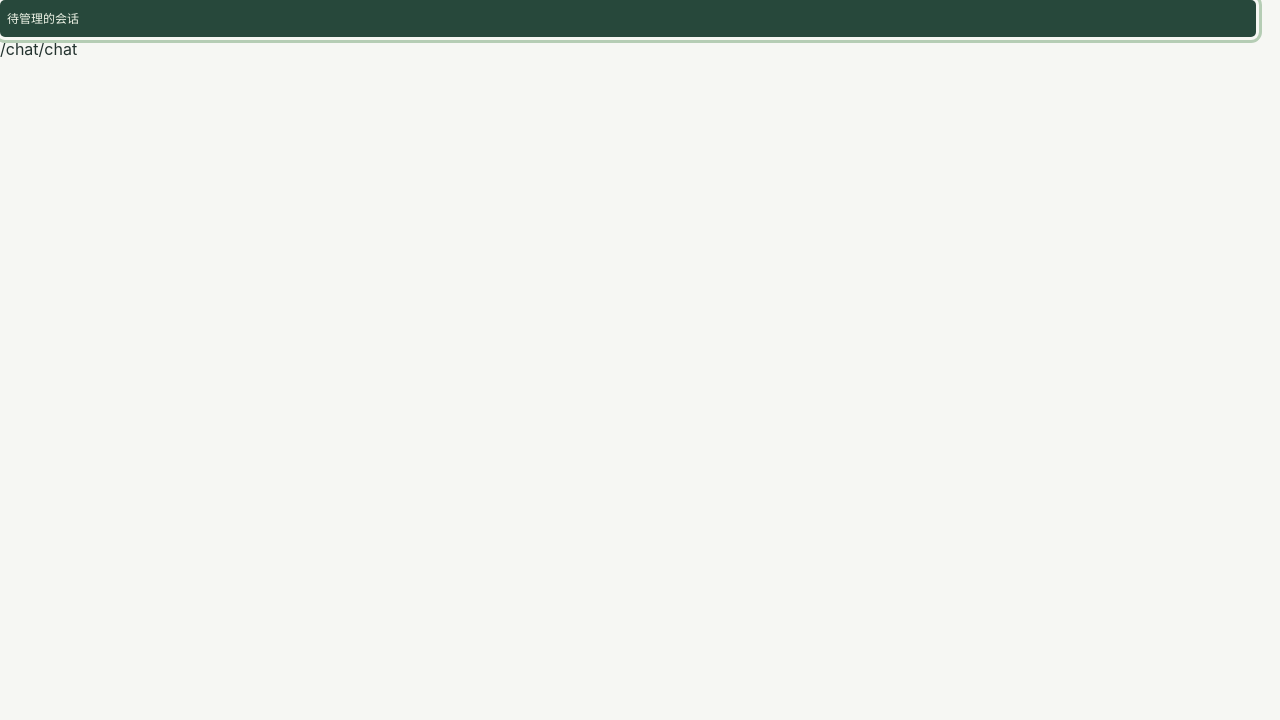
Scenario: opens deletion with the keyboard and cancels without deleting or leaving the conversation
This screenshot has width=1280, height=720.
Type keys "{Shift>}{F10}{/Shift}"
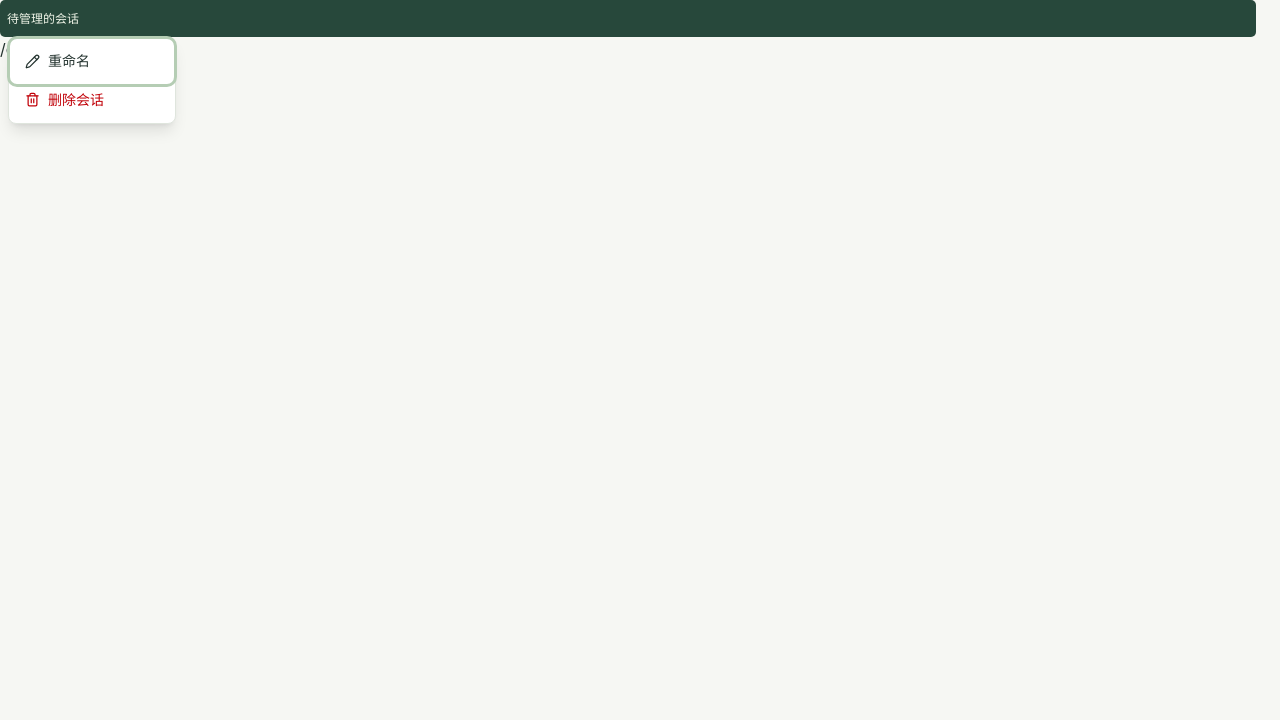
Press Arrowdown Enter
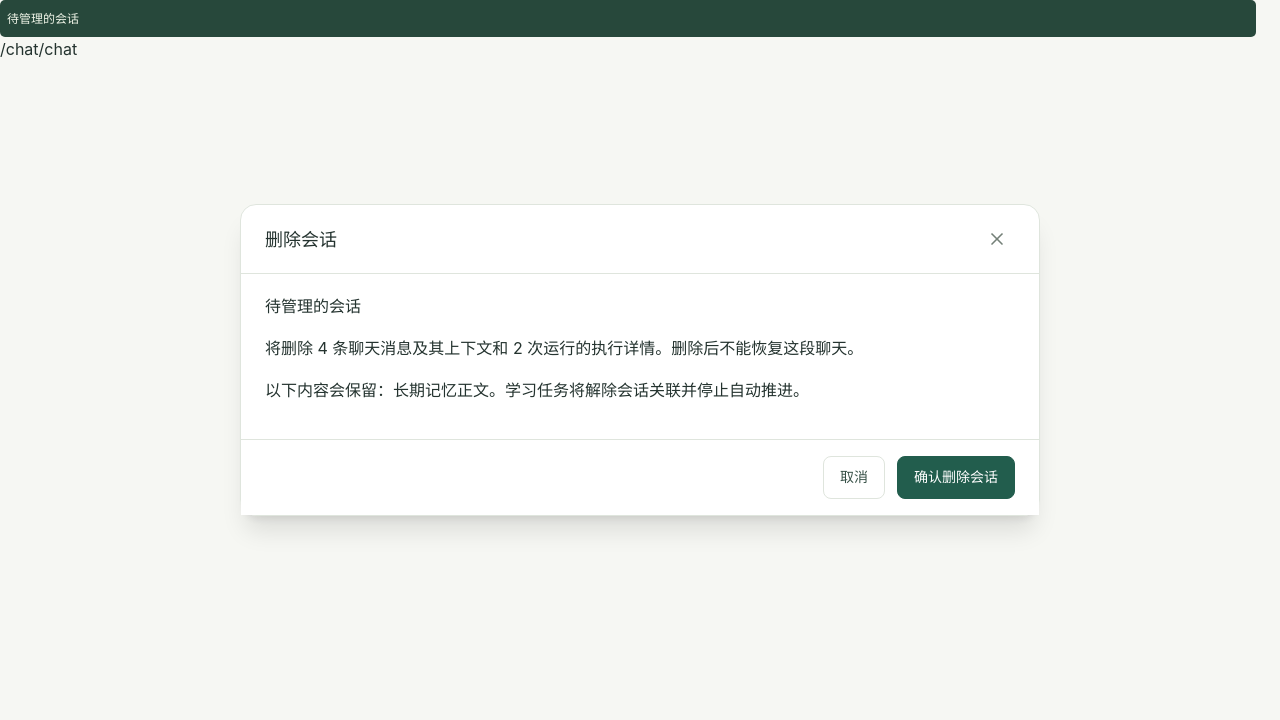
Expected: the text "以下内容会保留：长期记忆正文。学习任务将解除会话关联并停止自动推进。" is shown, x1=265 y1=380 x2=809 y2=400
Click the button "取消".
click(854, 477)  # box x1=823 y1=456 x2=885 y2=499
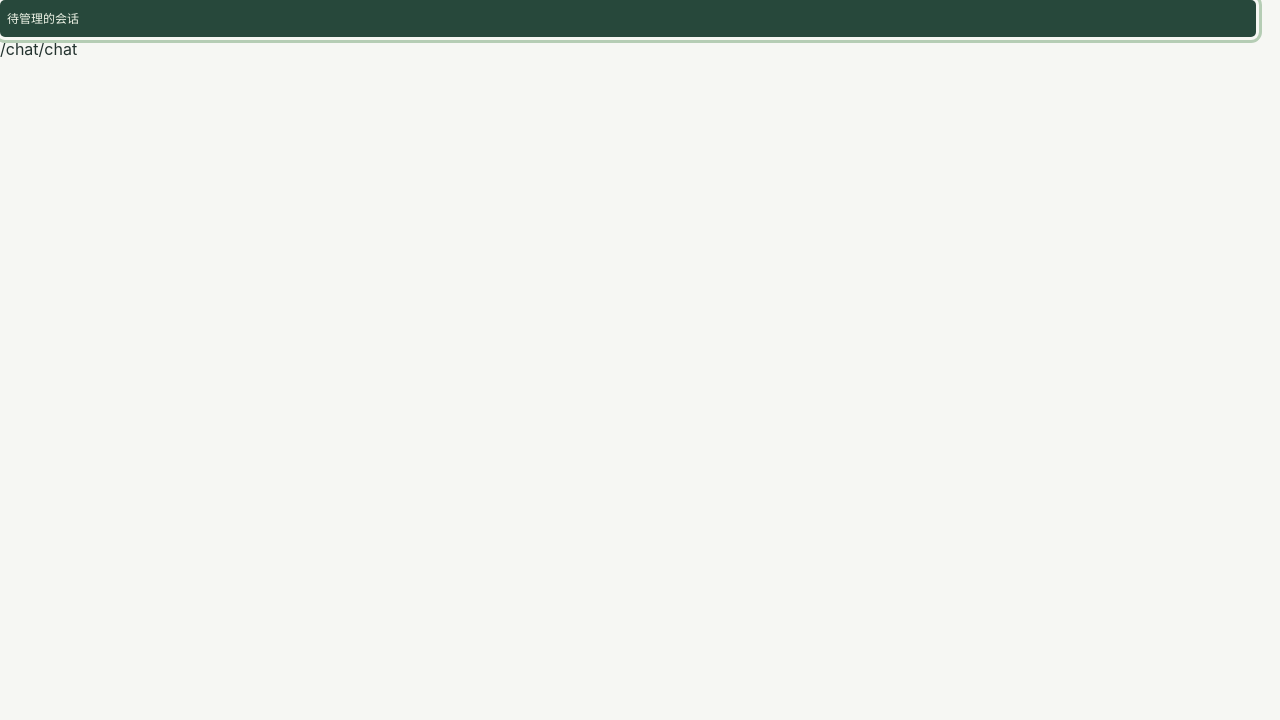
Expected: the text with test id "location" reads "/chat/chat", x1=0 y1=39 x2=77 y2=59
Expected: the dialog is gone
